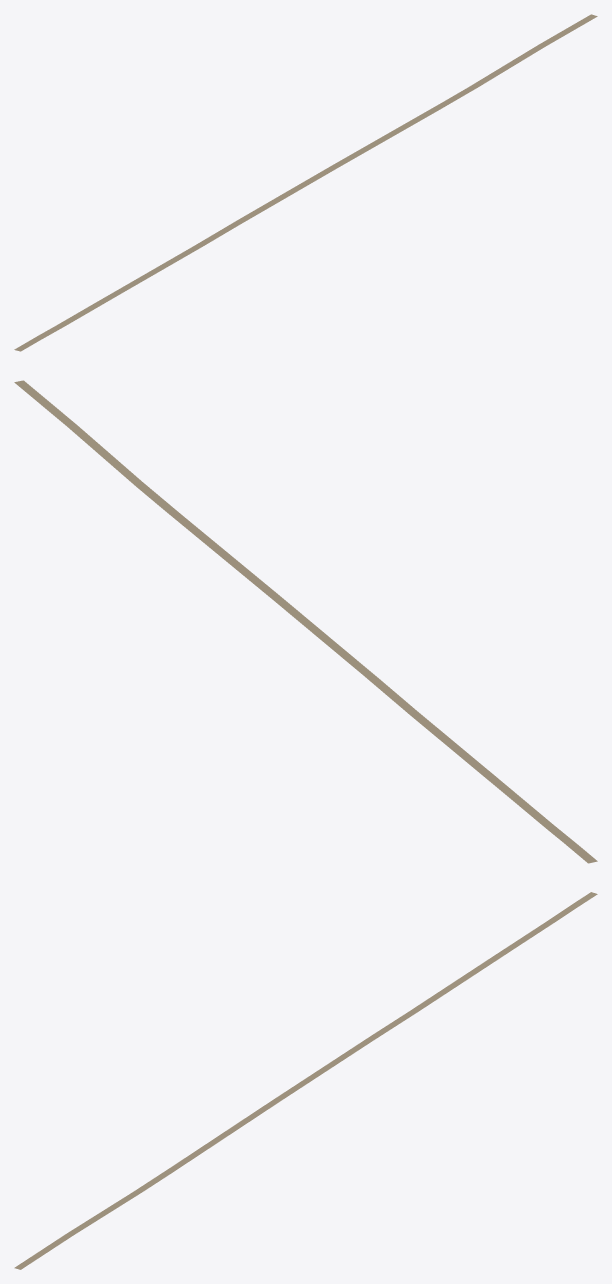
Rendered from farm_9_5_track.glb.
3 renders of one model, top to bottom at view 1: azimuth 90°, elevation 25°; view 2: azimuth 150°, elevation 25°; view 3: azimuth 270°, elevation 25°, orthographic. The views are drawn at different scales.
Visible parts, largest first — view 1: geometry_0; view 2: geometry_0; view 3: geometry_0.
Part boxes in pixels (x1,y1,x2,y2): geometry_0: [14, 14, 597, 351]; geometry_0: [14, 380, 597, 863]; geometry_0: [14, 892, 597, 1269].
Size of the model in its own units: 337 by 8.96 by 233.
